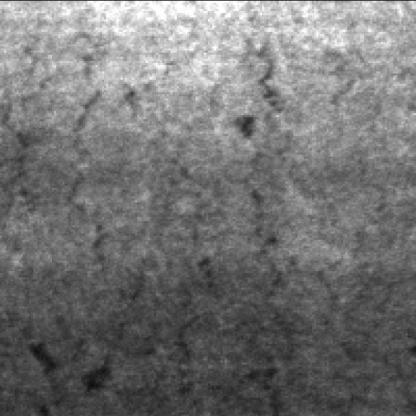crazing: (64, 54, 324, 364), (16, 35, 152, 302), (314, 44, 406, 414)
